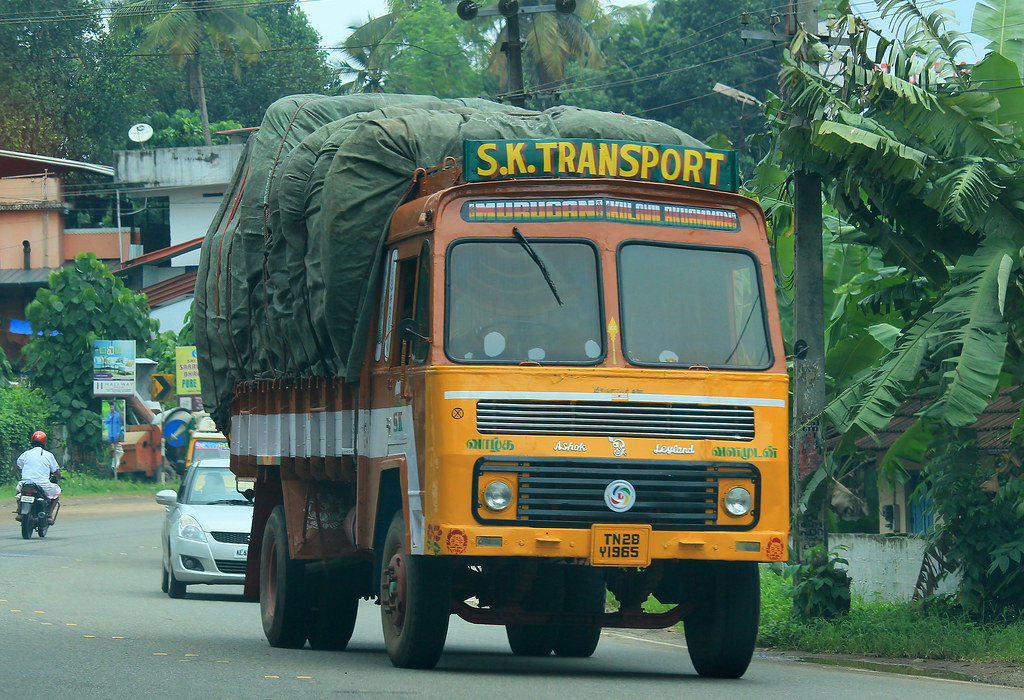lorry: (186, 83, 813, 682)
numberplate: (592, 525, 650, 566)
